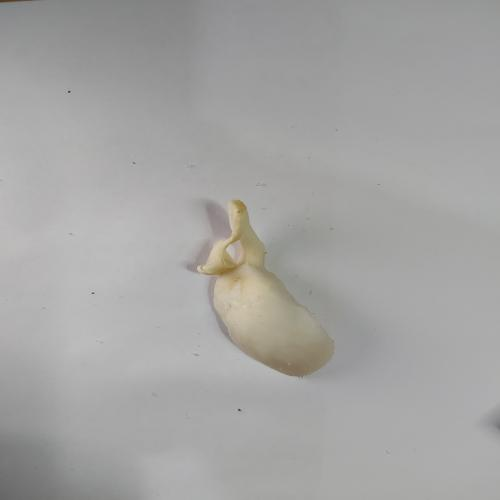Oyster Mushroom: (195, 198, 336, 378)
